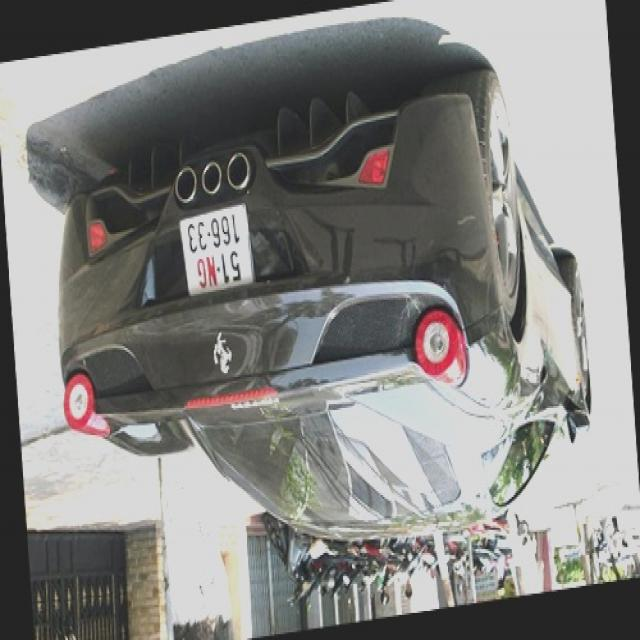bien_ngoai_giao: (178, 210, 253, 292)
